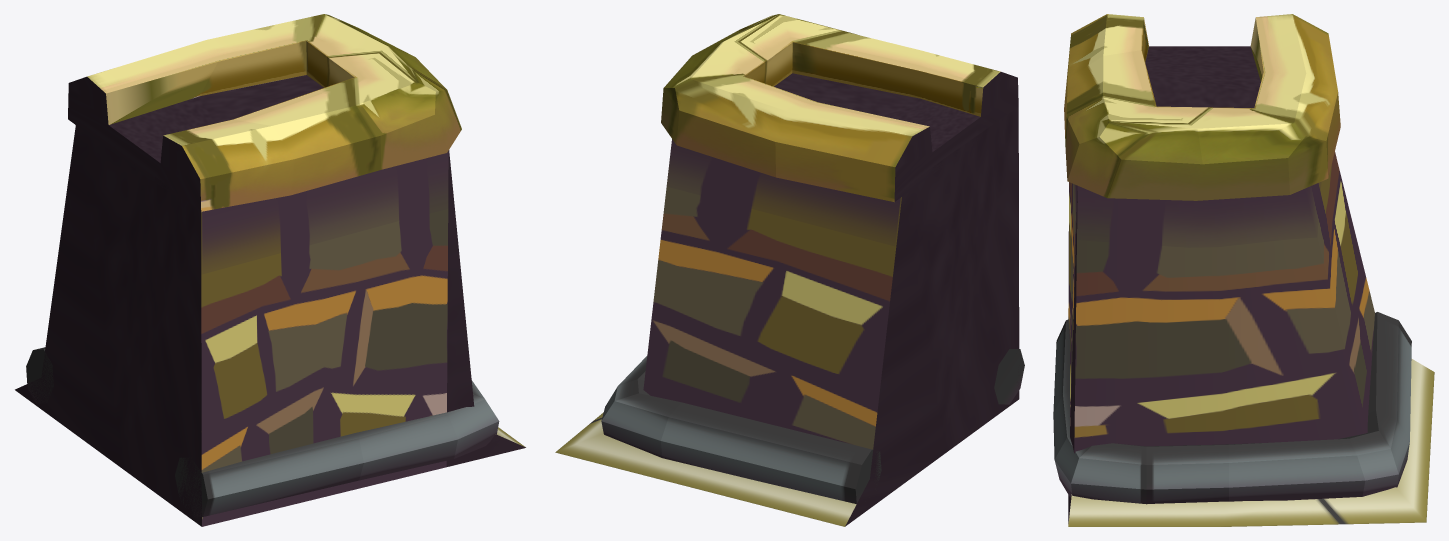
The model's file is Int_17_Wall_Hor_End_Left.fbx.
3 views of the same model, side by side, from view 1: azimuth 30°, elevation 25°; view 2: azimuth 150°, elevation 25°; view 3: azimuth 270°, elevation 25° (orthographic). The views are drawn at different scales.
Visible parts, largest first — view 1: Int_17_Wall_Hor_End_Left; view 2: Int_17_Wall_Hor_End_Left; view 3: Int_17_Wall_Hor_End_Left.
Part boxes in pixels (<box>): Int_17_Wall_Hor_End_Left: <box>15,14,525,526</box>; Int_17_Wall_Hor_End_Left: <box>555,14,1024,526</box>; Int_17_Wall_Hor_End_Left: <box>1053,14,1434,526</box>.
Bounding box in the file's own units: 1 × 1.09 × 1.04.
Materials: 1 (1 with a texture image).
